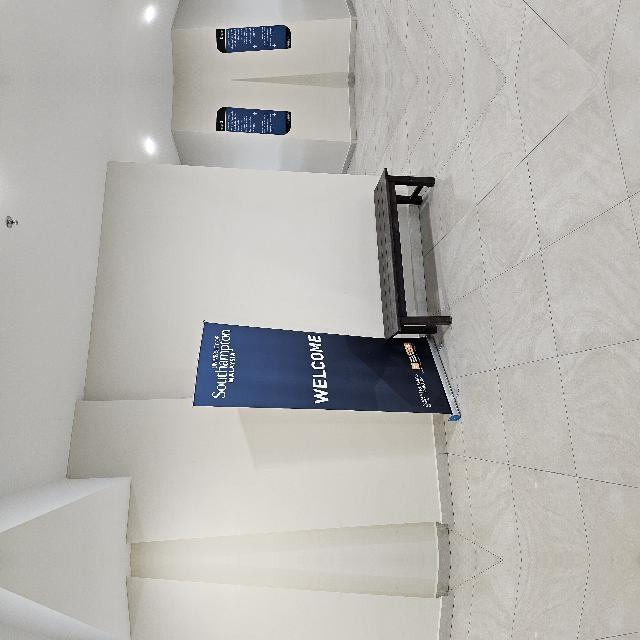obstacle: (149, 270, 391, 522), (149, 597, 391, 640)
